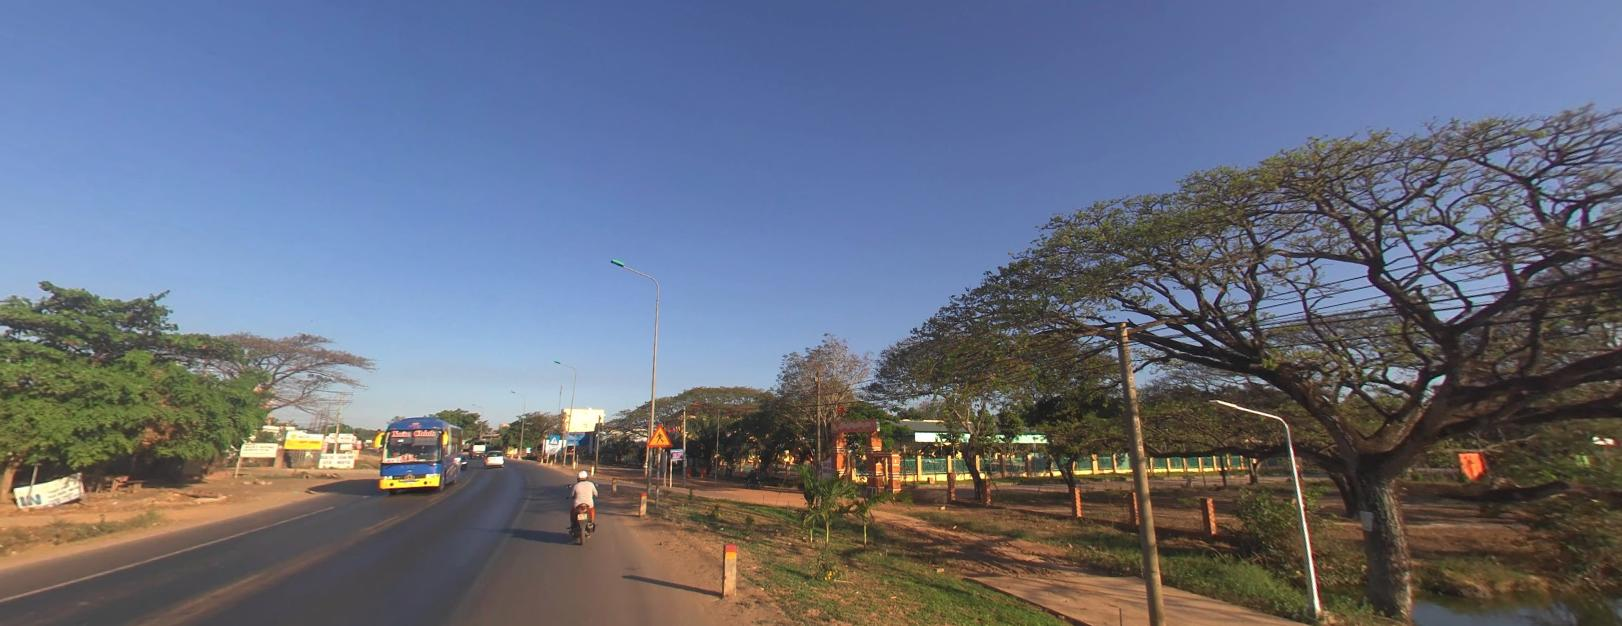Nguy hiem: (645, 423, 672, 446)
